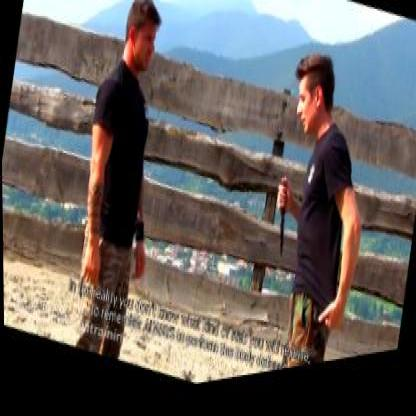knife: (266, 181, 294, 271)
